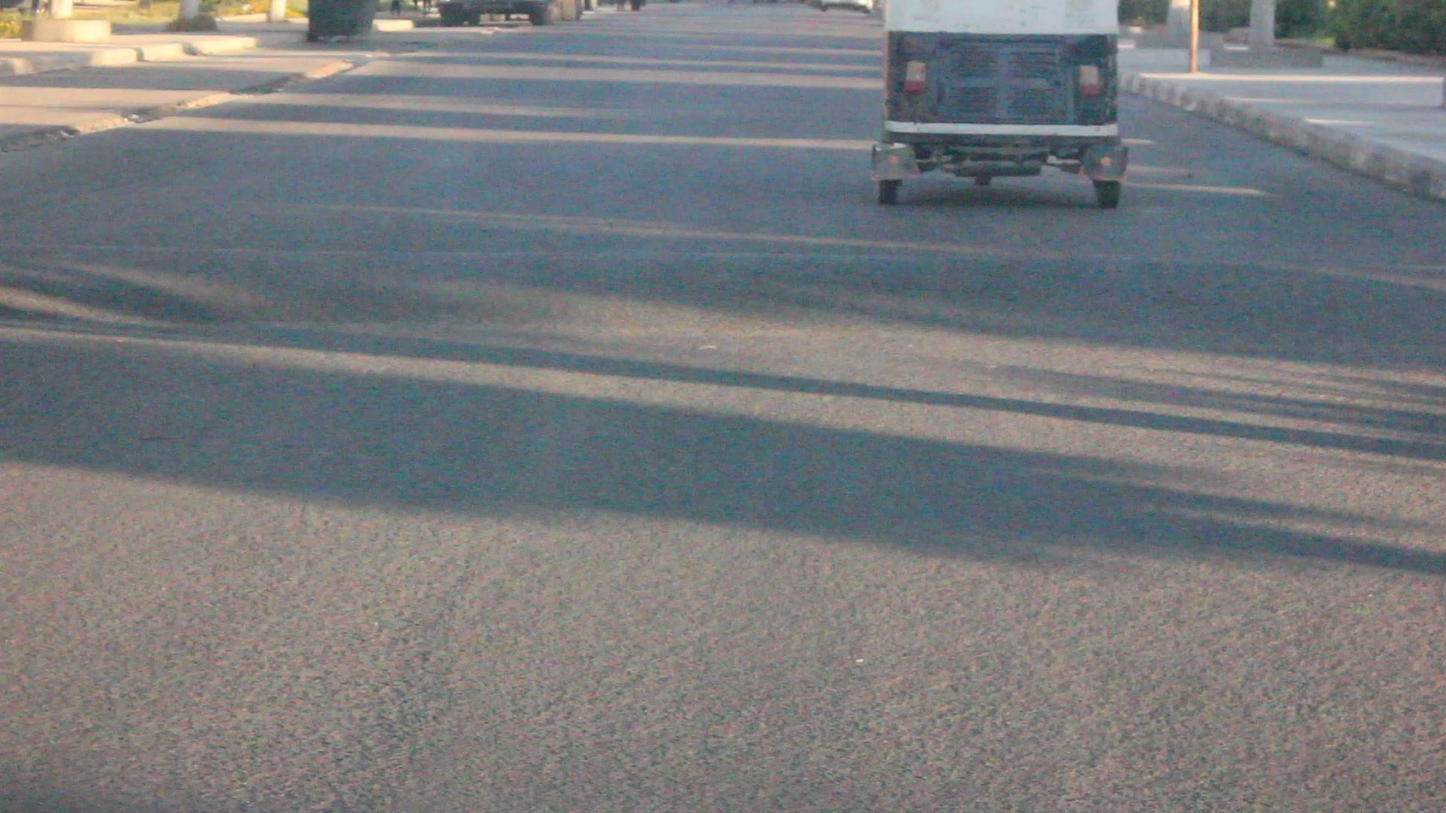Bump: (0, 235, 1446, 356)
